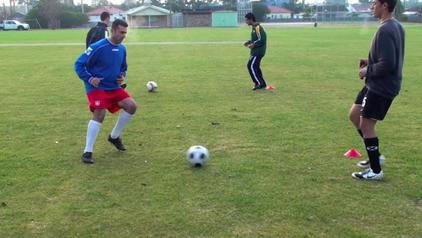sit: (182, 143, 210, 170)
stay: (75, 18, 138, 154), (243, 10, 269, 92)
walk: (182, 143, 210, 170)
